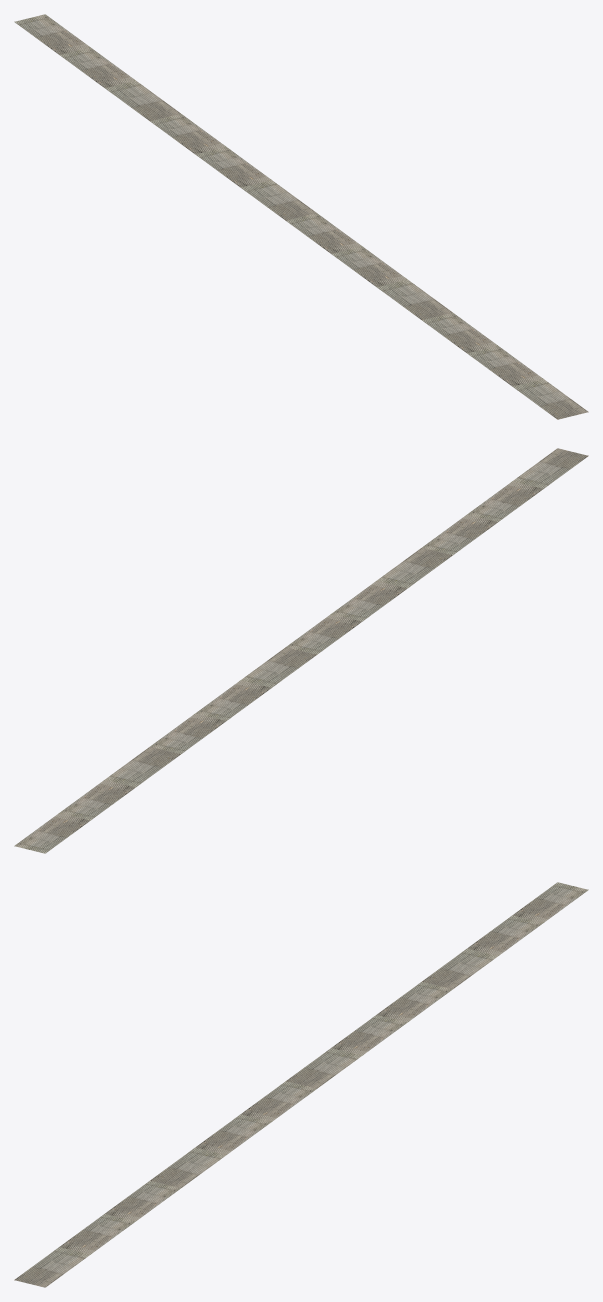
File: vereda.fbx
3 views of the same model, one above another, from view 1: azimuth 30°, elevation 25°; view 2: azimuth 150°, elevation 25°; view 3: azimuth 330°, elevation 25° (orthographic).
Parts seen in each view (by area): view 1: Plane.002; view 2: Plane.002; view 3: Plane.002.
Part boxes in pixels (bbox=[...]): Plane.002: bbox=[14, 14, 588, 419]; Plane.002: bbox=[14, 448, 588, 853]; Plane.002: bbox=[14, 882, 588, 1287].
Bounding box in the file's own units: 200 × 0.000978 × 6000.
2 materials, 2 textured.
